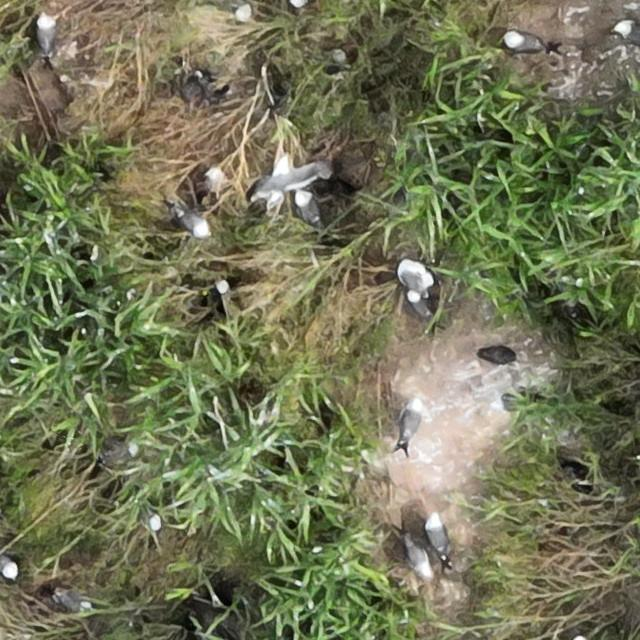F: (249, 156, 320, 200)
umineko: (405, 534, 433, 582), (426, 511, 450, 563), (399, 398, 424, 442), (177, 211, 210, 238), (58, 592, 95, 613), (296, 193, 320, 224), (401, 264, 429, 290), (505, 34, 543, 53), (38, 14, 56, 54), (103, 442, 136, 462), (614, 19, 640, 43), (408, 292, 428, 319), (1, 554, 19, 578), (232, 1, 252, 22), (148, 513, 162, 534)
